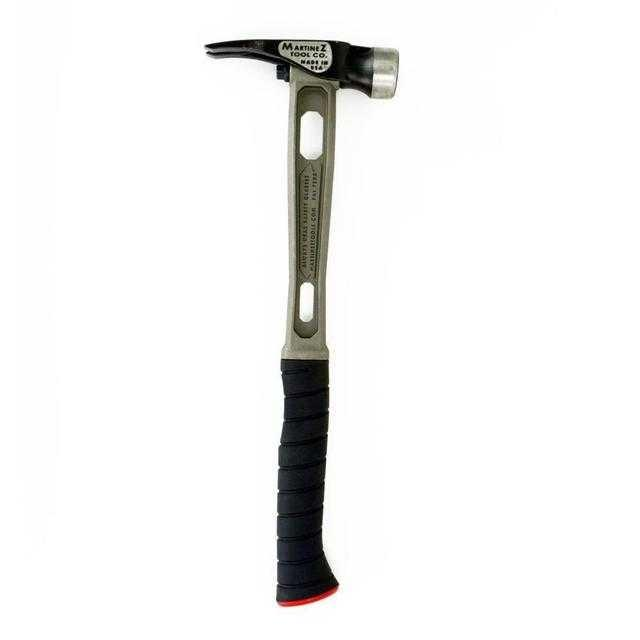hammer: (204, 39, 398, 606)
